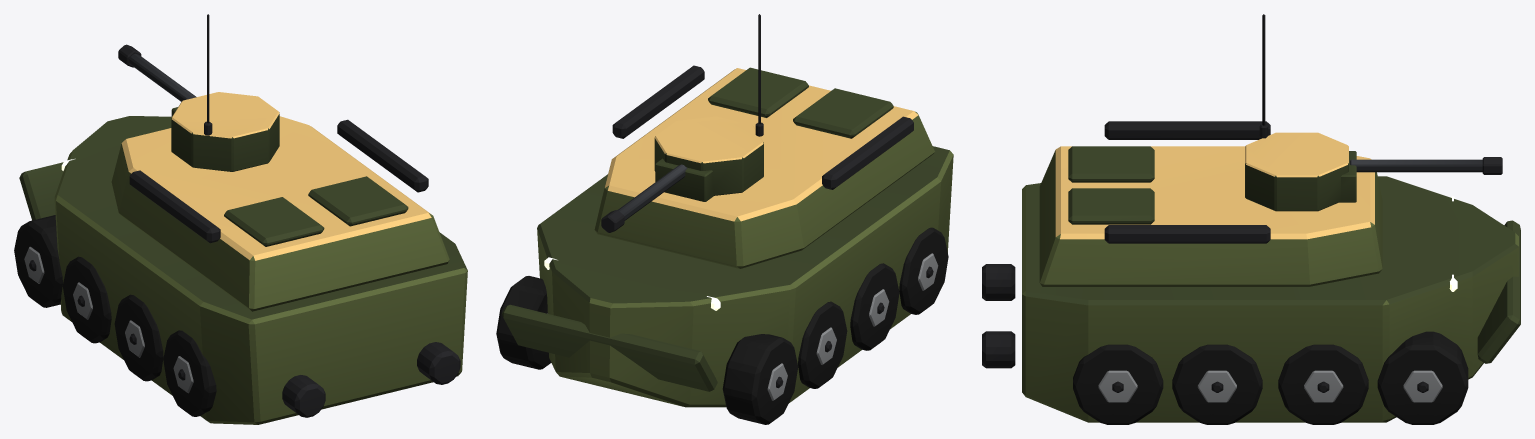
File: amphibious_apc.glb
3 views of the same model, side by side, from view 1: azimuth 30°, elevation 25°; view 2: azimuth 150°, elevation 25°; view 3: azimuth 270°, elevation 25° (orthographic). The views are drawn at different scales.
Visible parts, largest first — view 1: amphibious_apc, Turret; view 2: amphibious_apc, Turret; view 3: amphibious_apc, Turret.
Part boxes in pixels (<box>): amphibious_apc: <box>14,116,467,424</box>; Turret: <box>118,14,279,171</box>; amphibious_apc: <box>496,65,953,424</box>; Turret: <box>601,14,763,232</box>; amphibious_apc: <box>982,121,1520,424</box>; Turret: <box>1245,14,1502,211</box>.
Size of the model in its own units: 0.948 by 1.11 by 1.63.
